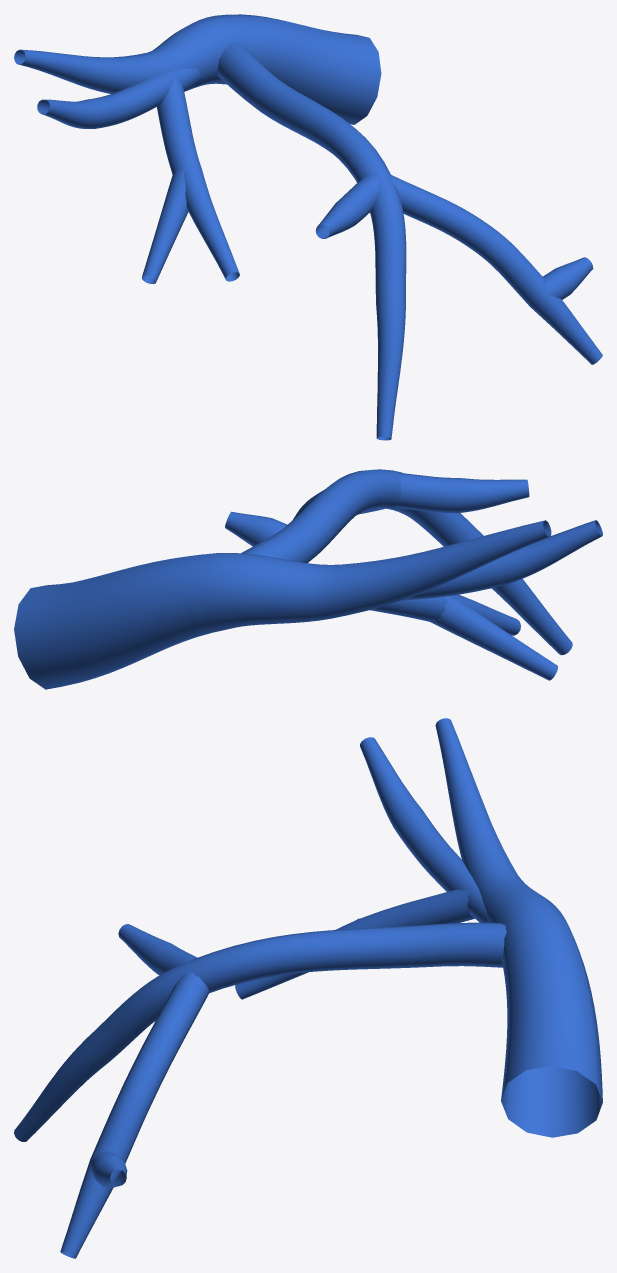
Rendered from circulatorio-anterior-segmental-artery-of-right-lung.glb.
The picture shows the model from 3 angles, top to bottom: view 1: azimuth 30°, elevation 25°; view 2: azimuth 150°, elevation 25°; view 3: azimuth 270°, elevation 25°; orthographic projection. The views are drawn at different scales.
Parts seen in each view (by area): view 1: Anterior segmental artery of right lung; view 2: Anterior segmental artery of right lung; view 3: Anterior segmental artery of right lung.
Part boxes in pixels (x1,y1,x2,y2): Anterior segmental artery of right lung: (14, 14, 602, 440); Anterior segmental artery of right lung: (14, 469, 602, 689); Anterior segmental artery of right lung: (14, 718, 602, 1258).
Size of the model in its own units: 0.0661 by 0.0426 by 0.0692.
